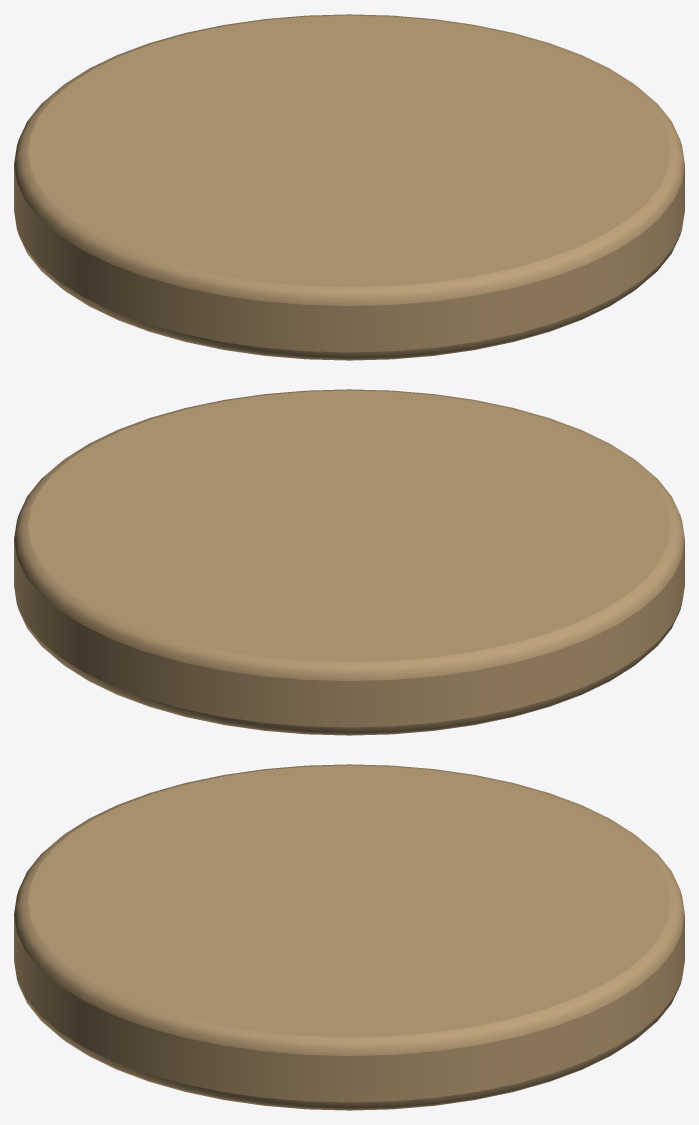
Rendered from thot.glb.
3 views of the same model, one above another, from view 1: azimuth 30°, elevation 25°; view 2: azimuth 150°, elevation 25°; view 3: azimuth 270°, elevation 25° (orthographic).
Visible parts, largest first — view 1: thot; view 2: thot; view 3: thot.
Part boxes in pixels (box(x1,y1,x2,y2)): thot: box(14, 14, 684, 360); thot: box(14, 389, 684, 735); thot: box(14, 764, 684, 1110).
Size of the model in its own units: 0.38 by 0.045 by 0.38.
